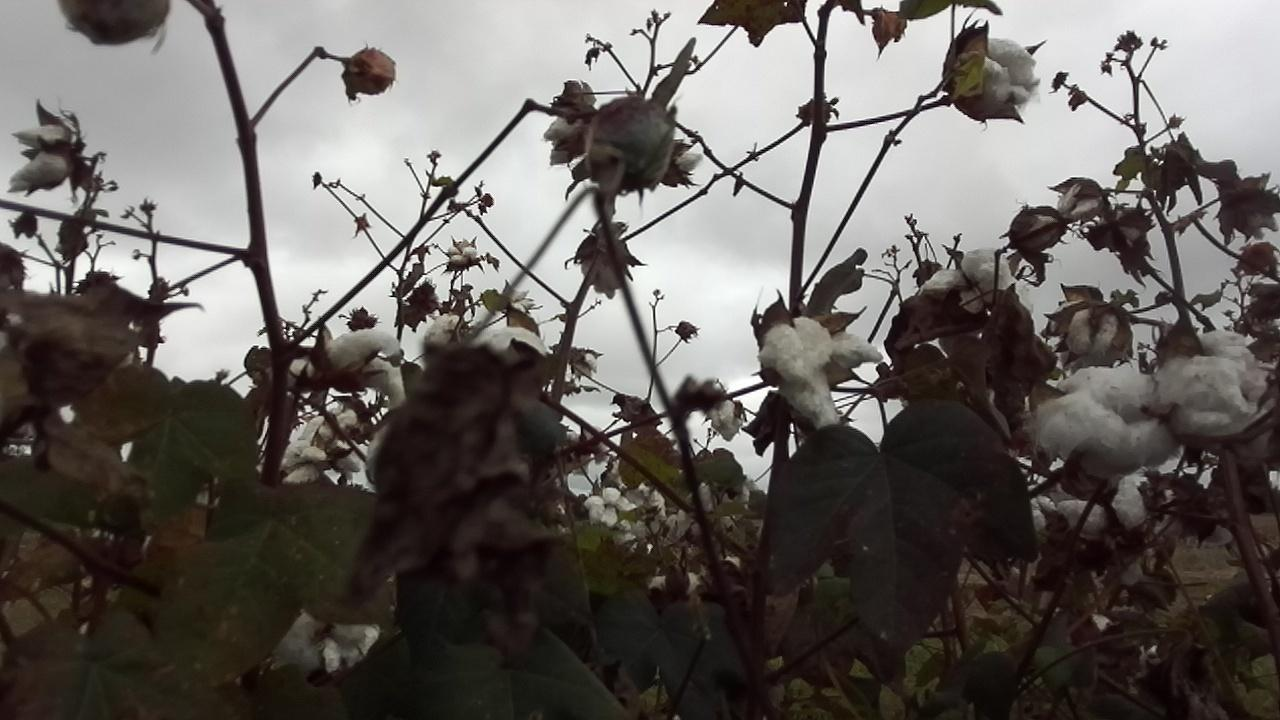cotton_ready: (1028, 321, 1272, 472), (759, 315, 887, 429), (272, 607, 385, 675), (281, 404, 366, 492), (1056, 474, 1156, 548), (314, 332, 408, 410), (950, 34, 1040, 114), (1049, 296, 1134, 369), (918, 250, 1012, 312), (467, 323, 560, 382), (13, 122, 75, 196), (545, 104, 597, 170), (423, 313, 469, 379), (1009, 204, 1067, 255), (1056, 178, 1112, 222)
